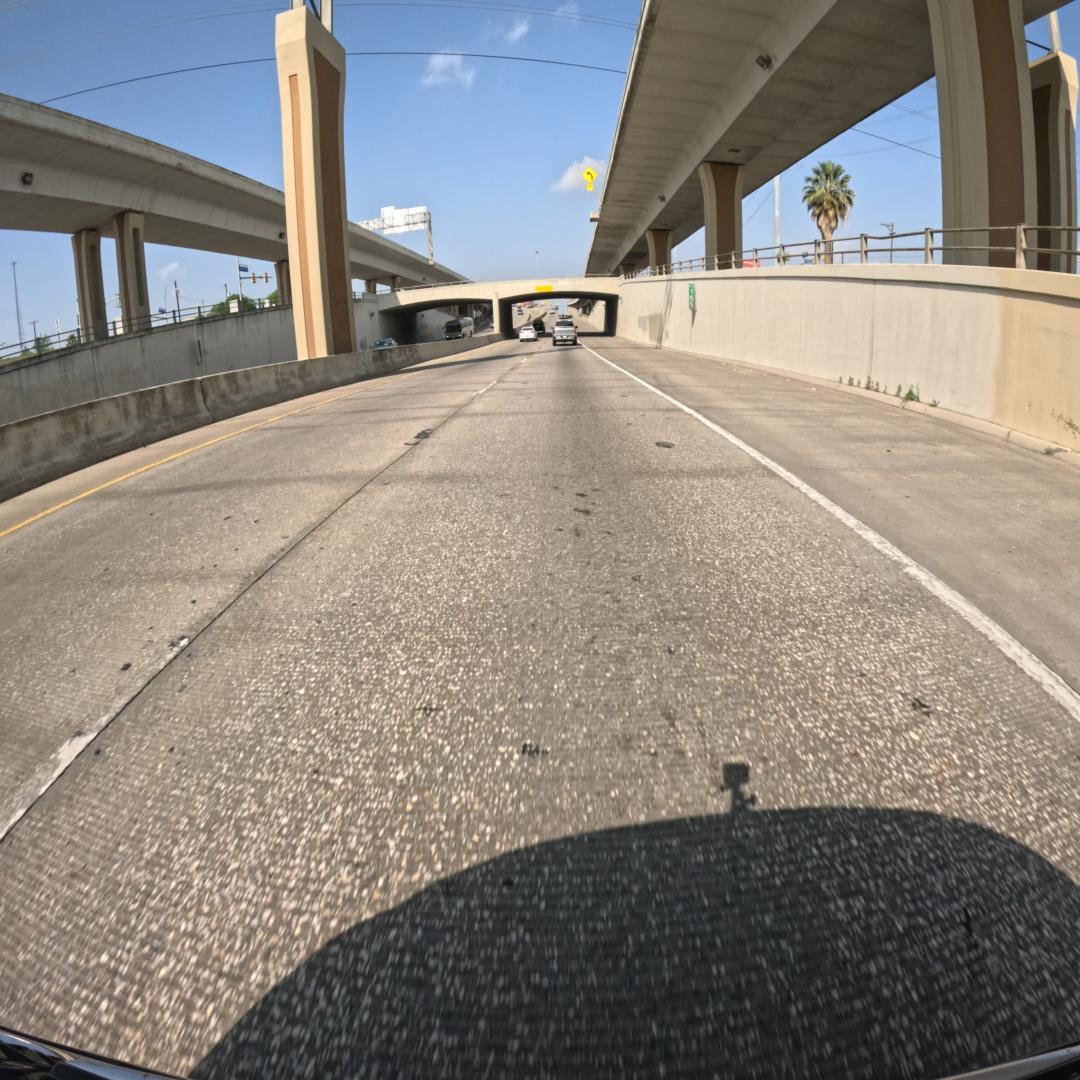lane0: (0, 347, 1080, 1080)
lane1: (0, 341, 539, 838)
